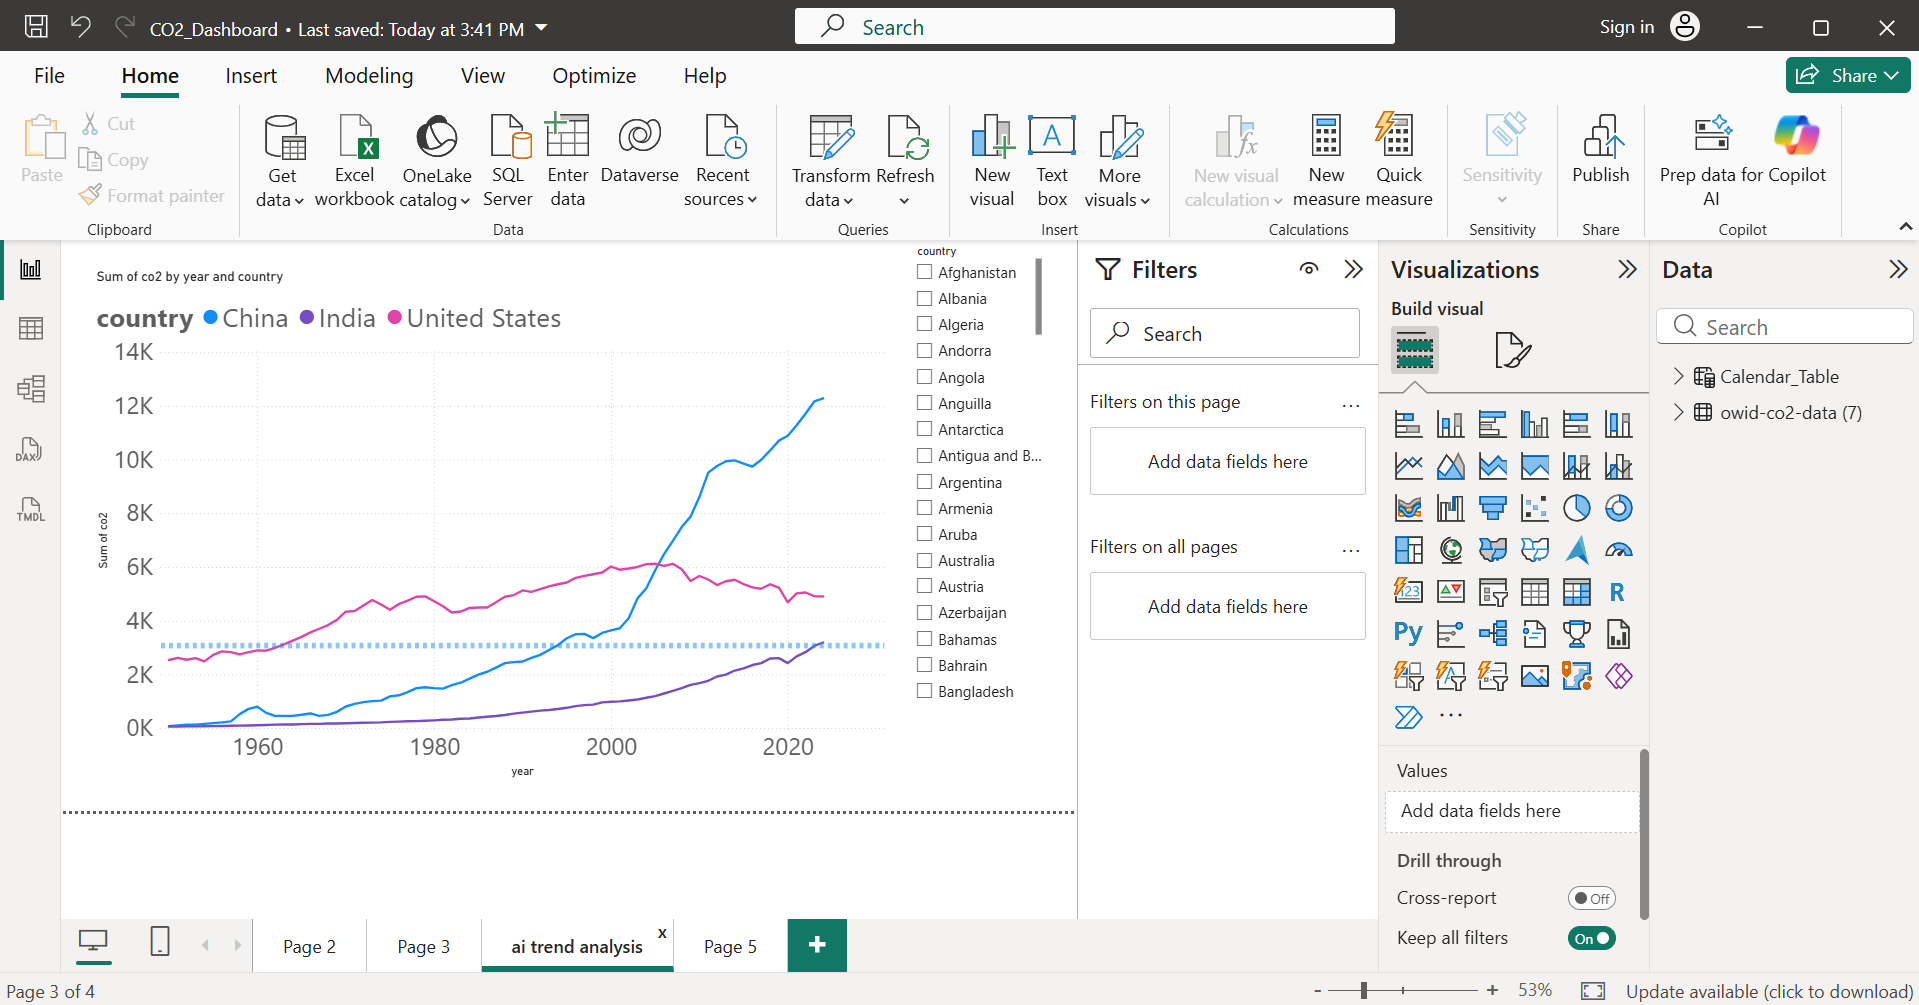

What the dashboard file says about the page in this screenshot:
{"tool":"powerbi","page":{"name":"ai trend analysis","canvas":[1280,720],"ordinal":2},"visuals":[{"type":"lineChart","fields":{"Category":["owid-co2-data (7).year"],"Y":["Sum(owid-co2-data (7).co2)"],"Series":["owid-co2-data (7).country"]},"box":[40.4,36.5,1025,646.2],"z":0},{"type":"slicer","fields":{"Values":["owid-co2-data (7).country"]},"box":[1065.4,0,175,594.2],"z":1000}]}

Visuals, with their boxes on the page's 1280x720 design canvas (x1, y1, x2, y2). These are canvas units, not pixel positions in the 1919x1005 screenshot, which may show the page scaled, cropped or inside an application window:
lineChart - owid-co2-data (7).year x Sum(owid-co2-data (7).co2): 40/36/1065/683
slicer - owid-co2-data (7).country: 1065/0/1240/594
